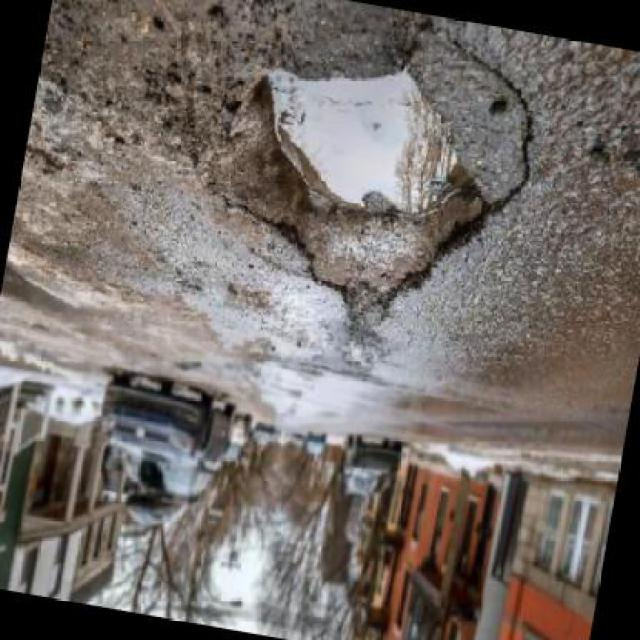pothole1: (206, 43, 512, 326), (0, 257, 77, 321)
